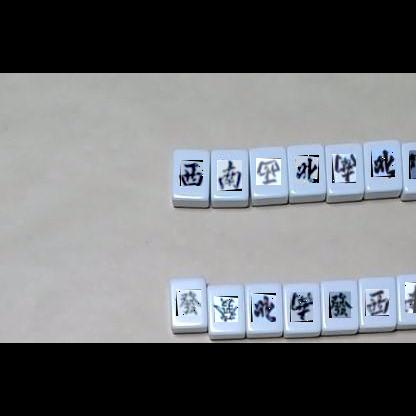2z: (217, 160, 242, 191), (332, 154, 356, 183), (290, 292, 313, 322), (405, 282, 416, 313)
3z: (256, 158, 281, 185), (365, 289, 389, 316), (180, 160, 203, 186)
4z: (251, 293, 276, 322), (371, 149, 395, 177), (295, 155, 319, 183), (409, 150, 416, 179)
6z: (176, 289, 201, 316), (214, 296, 238, 322), (329, 291, 351, 318)
